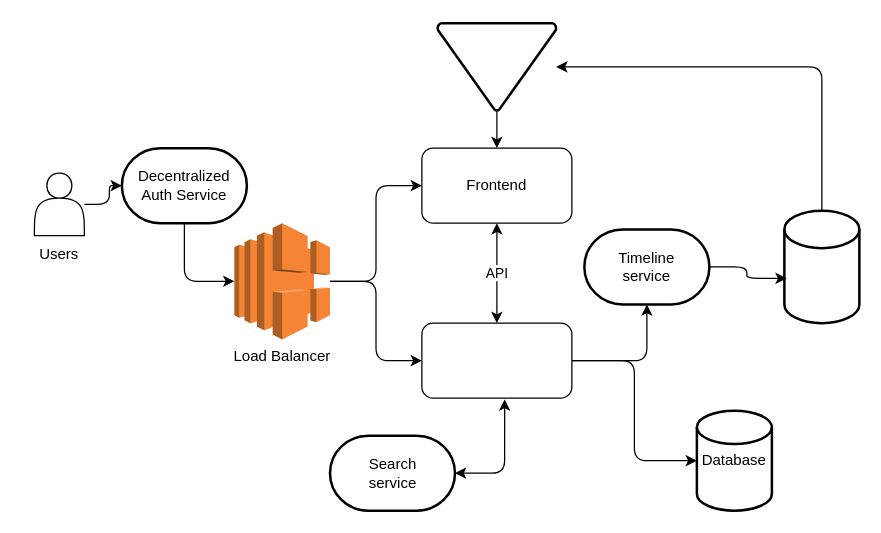
The diagram is 881 pixels wide and 533 high, and some of its shapes have lost their labels. Here are the shapes that lost their labels. From the top down, the centre of each, then its label:
the point at 496,66: Real Time Publisher
the point at 821,266: Messaging system
the point at 496,360: Backend
